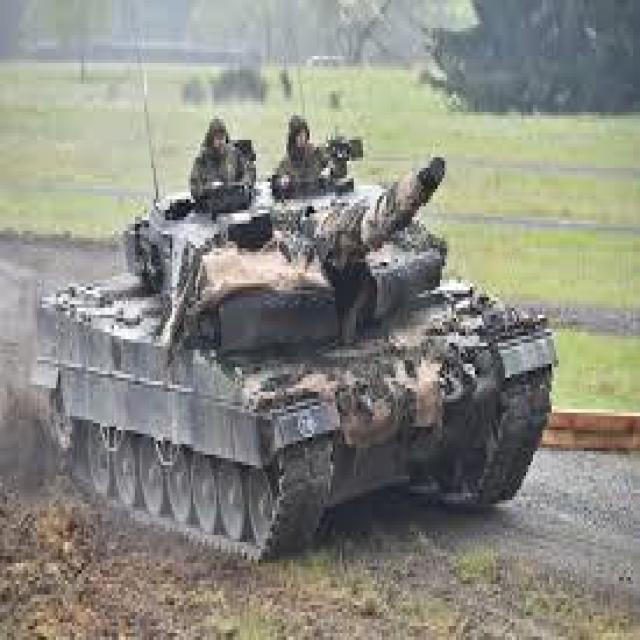Tanks: (35, 173, 558, 558)
